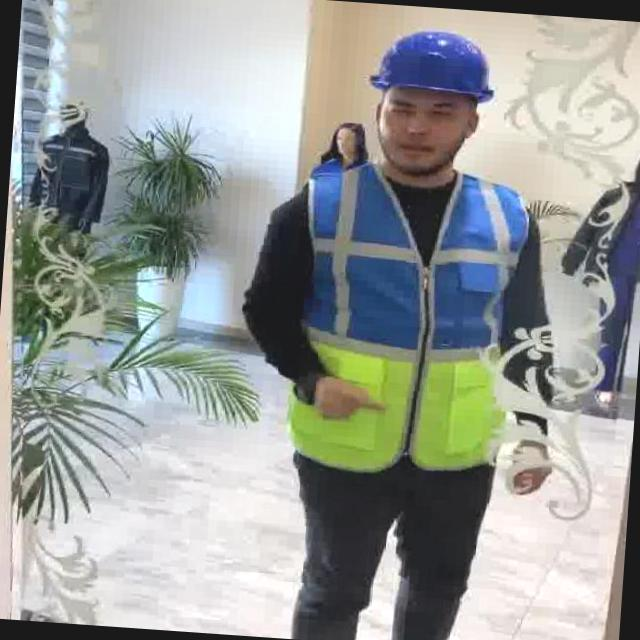helmet: (366, 24, 499, 105)
vest: (283, 157, 525, 486)
